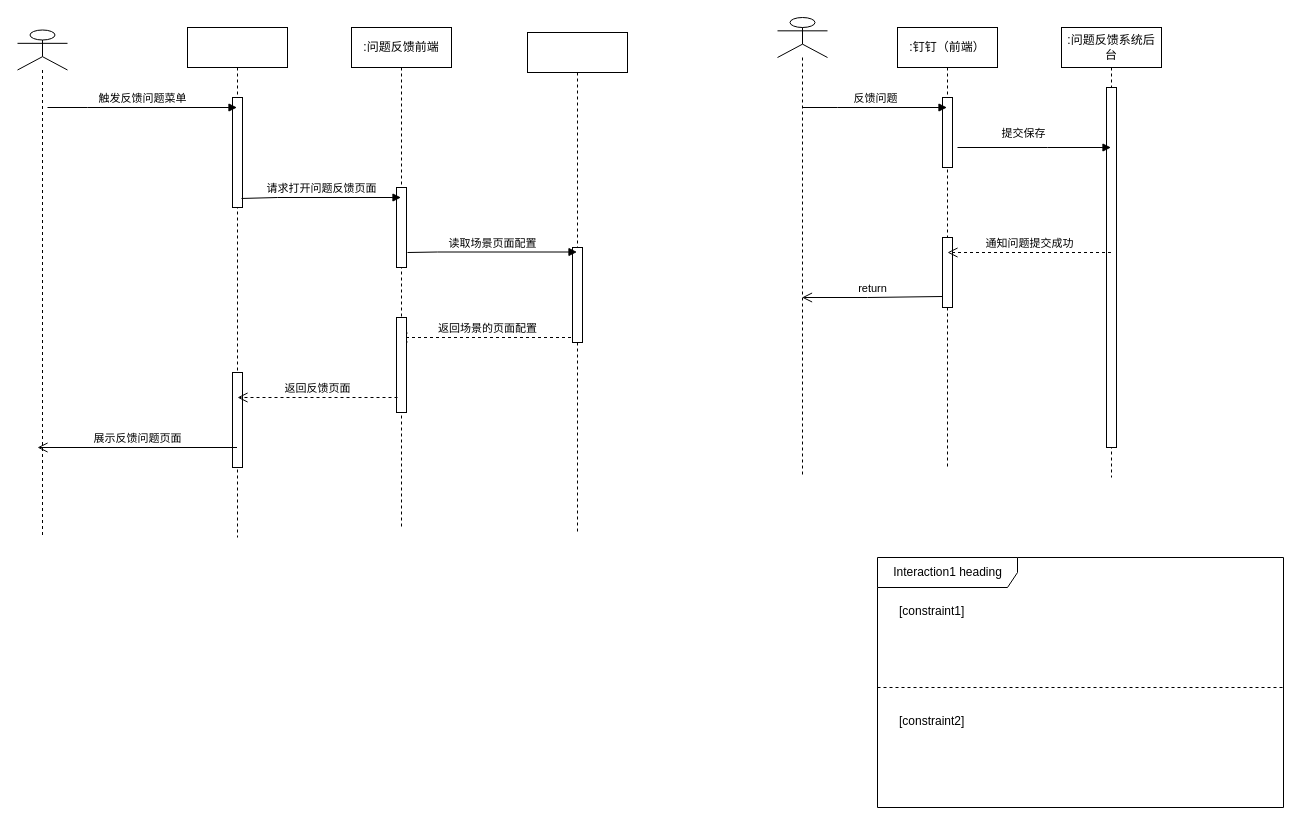
The diagram is 1301 pixels wide and 825 high, and some of its shapes have lost their labels. The shapes that lost their labels are listed below. From the top down, each one's box as (x1, y1, x2, y2) in pixels, then its label:
(186, 26, 288, 538): :钉钉群
(526, 32, 628, 532): :问题反馈后台服务
